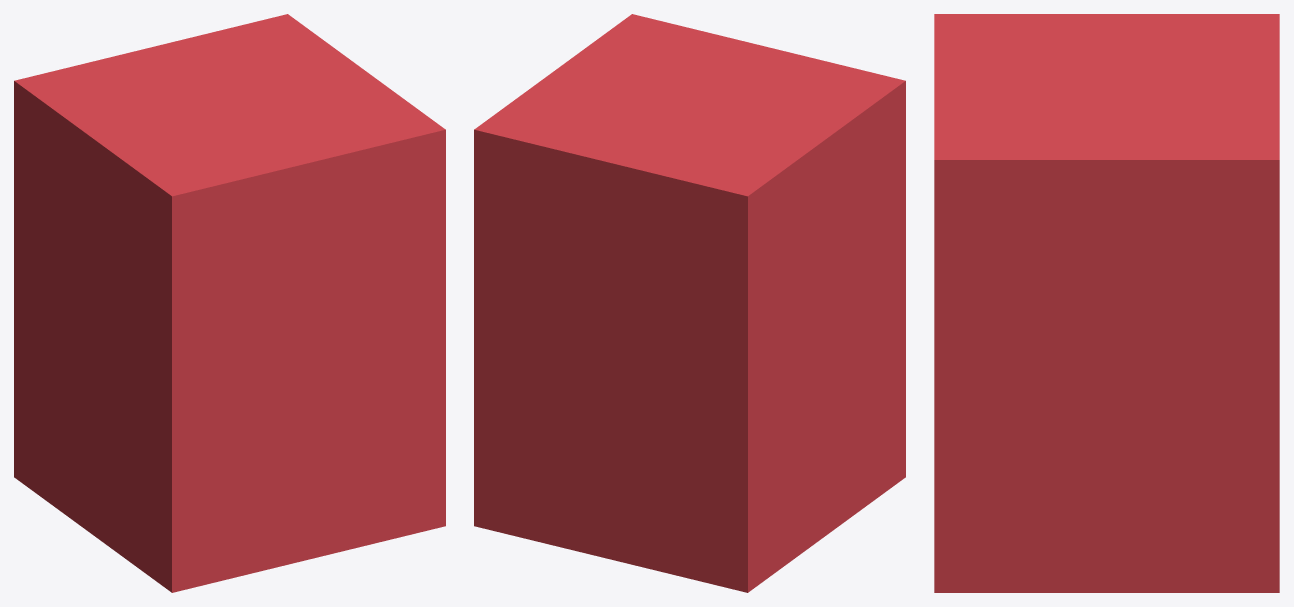
File: noel_coxa.glb
3 views of the same model, side by side, from view 1: azimuth 30°, elevation 25°; view 2: azimuth 150°, elevation 25°; view 3: azimuth 270°, elevation 25° (orthographic). The views are drawn at different scales.
Visible parts, largest first — view 1: noel_coxa; view 2: noel_coxa; view 3: noel_coxa.
Part boxes in pixels (x1,y1,x2,y2): noel_coxa: [14, 14, 445, 592]; noel_coxa: [474, 14, 905, 592]; noel_coxa: [934, 14, 1279, 592].
Size of the model in its own units: 0.26 by 0.36 by 0.26.
